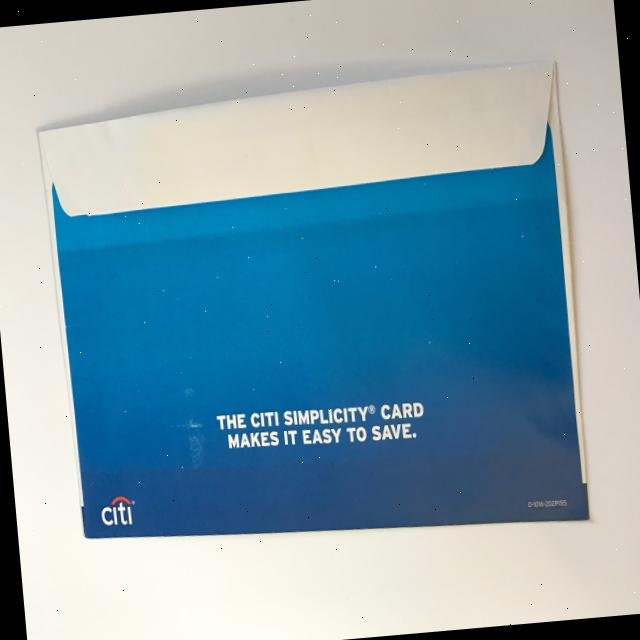paper: (37, 61, 596, 564)
